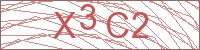2: (131, 11, 151, 40)
3: (78, 3, 97, 32)
C: (105, 11, 131, 40)
X: (51, 10, 77, 41)
